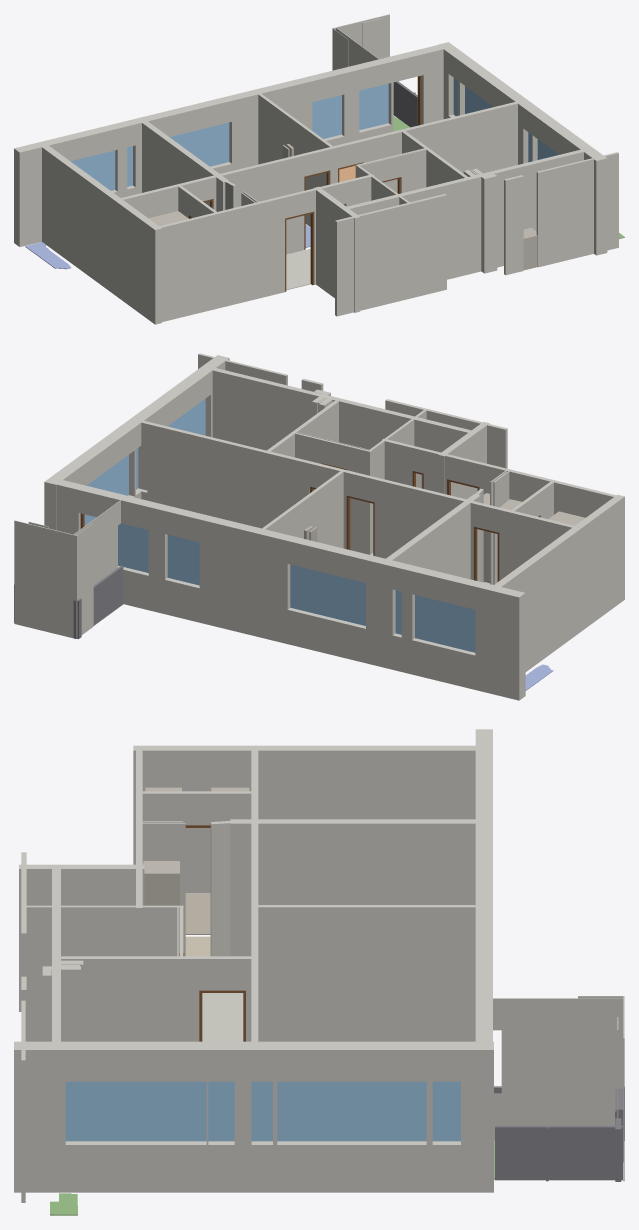
3 renders of one model, top to bottom at view 1: azimuth 30°, elevation 25°; view 2: azimuth 150°, elevation 25°; view 3: azimuth 270°, elevation 25°, orthographic. The views are drawn at different scales.
Parts seen in each view (by area): view 1: walls, window_5, window_11, window_13, window_6, railings, floor_5_Undefined, furniture_13_appliance, door_7, floor_12_Bed_Room; view 2: walls, window_5, window_6, railings, window_13, window_11, window_3, window_1; view 3: walls, window_3, window_1, railings, floor_5_Undefined, window_15, window_9, furniture_5_closet, window_16, floor_3_Storage.
Part boxes in pixels (left/top/right/bottom): walls: left=14, top=14, right=618, bottom=324; window_5: left=169, top=122, right=229, bottom=166; window_11: left=359, top=83, right=388, bottom=130; window_13: left=312, top=95, right=341, bottom=138; window_6: left=71, top=150, right=115, bottom=190; railings: left=393, top=81, right=417, bottom=127; floor_5_Undefined: left=286, top=249, right=310, bottom=290; furniture_13_appliance: left=523, top=227, right=537, bottom=270; door_7: left=285, top=211, right=314, bottom=291; floor_12_Bed_Room: left=25, top=242, right=71, bottom=269; walls: left=14, top=353, right=624, bottom=700; window_5: left=290, top=564, right=365, bottom=625; window_6: left=415, top=595, right=475, bottom=652; railings: left=14, top=565, right=123, bottom=638; window_13: left=167, top=535, right=199, bottom=585; window_11: left=118, top=523, right=148, bottom=572; window_3: left=85, top=455, right=128, bottom=525; window_1: left=167, top=398, right=205, bottom=435; walls: left=14, top=729, right=624, bottom=1202; window_3: left=277, top=1081, right=426, bottom=1141; window_1: left=65, top=1081, right=206, bottom=1141; railings: left=494, top=1086, right=624, bottom=1181; floor_5_Undefined: left=202, top=993, right=243, bottom=1041; window_15: left=432, top=1081, right=460, bottom=1141; window_9: left=208, top=1081, right=234, bottom=1141; furniture_5_closet: left=143, top=861, right=179, bottom=905; window_16: left=251, top=1081, right=272, bottom=1141; floor_3_Storage: left=185, top=894, right=210, bottom=934.
Bounding box in the file's own units: 13.88 × 2.72 × 10.46.
